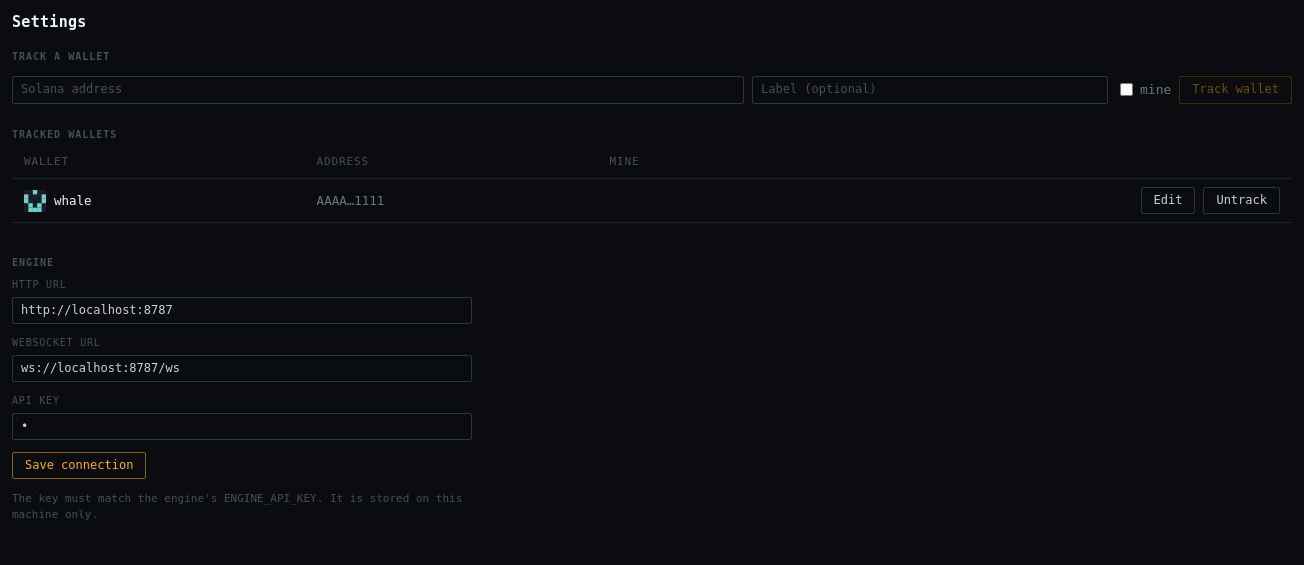
Scenario: SettingsTab › discards an edit that was cancelled
This screenshot has width=1304, height=565.
Step 1. Click the button named "Edit whale" → (1168, 201), box [1140,187,1195,214]
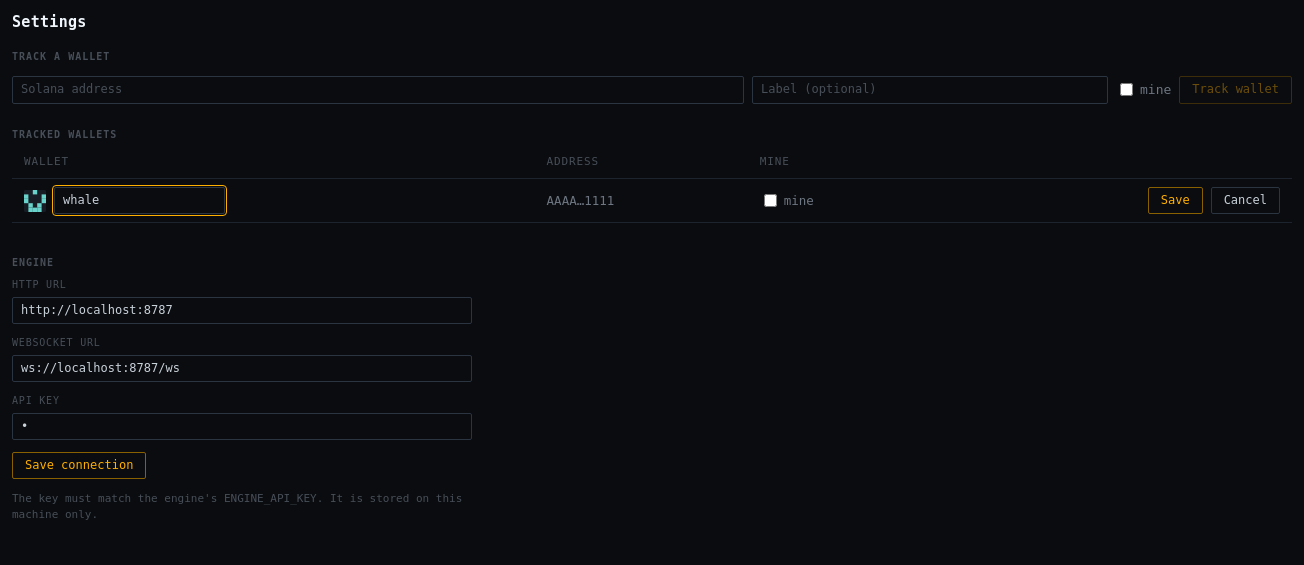
Step 2. Replace the text in the field named "Label for AAAA…1111" with "nope" → (140, 201), box [54,187,225,214]
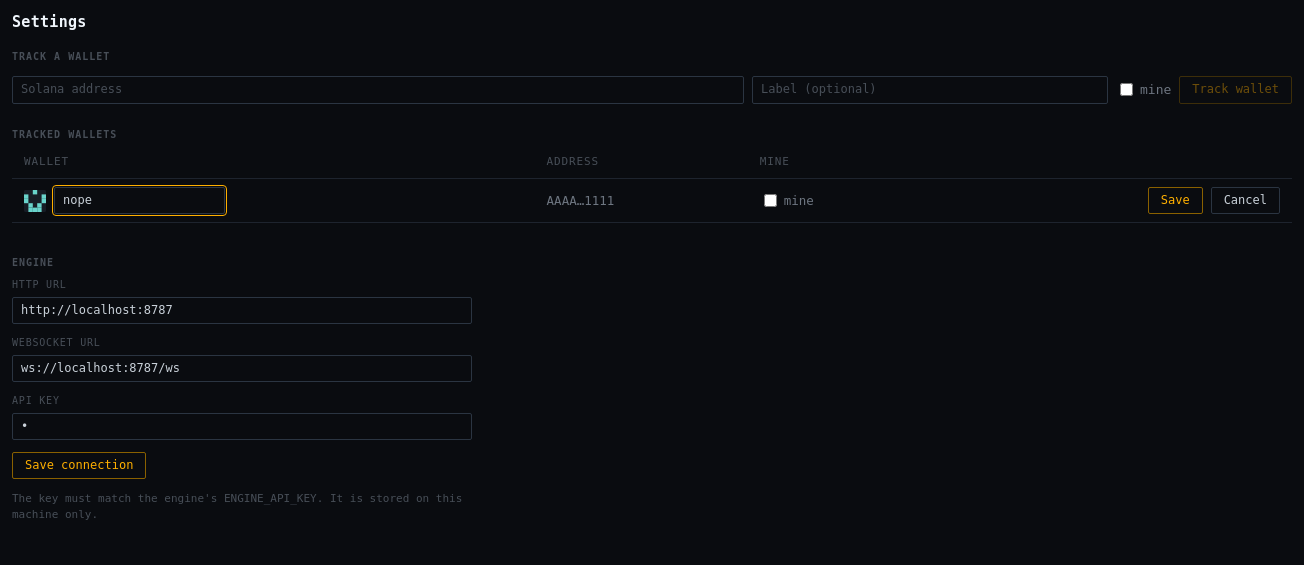
Step 3. Click the button "Cancel" → (1245, 201), box [1211,187,1280,214]
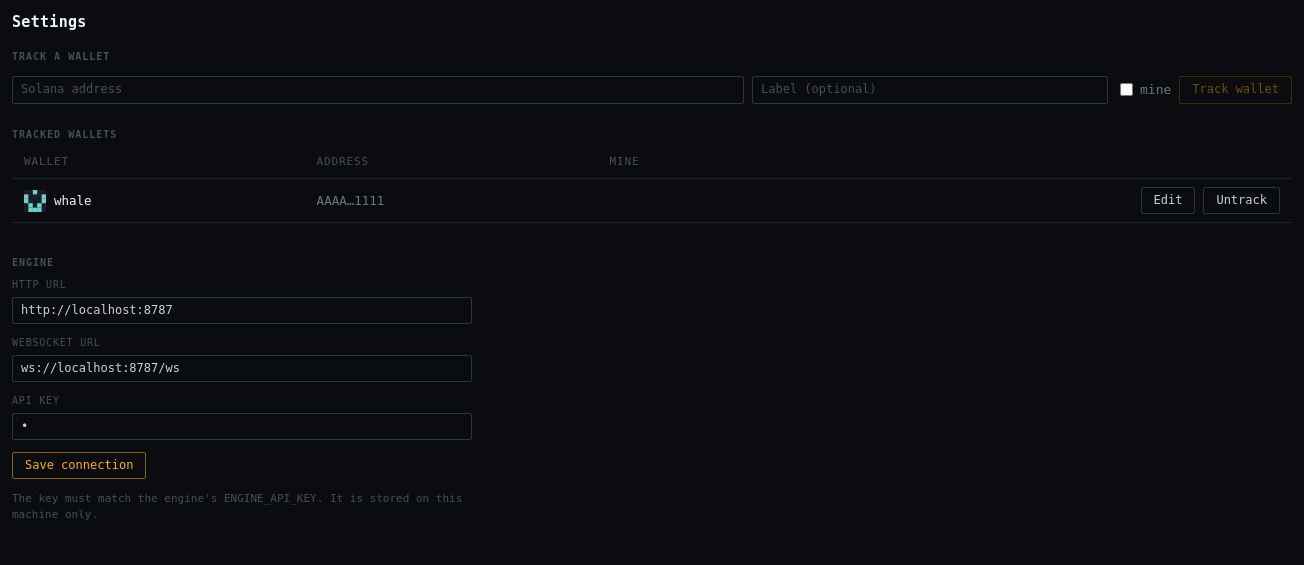
Note: Reopening starts from the stored value, not from what was abandoned.
Step 4. Click the button named "Edit whale" → (1168, 201), box [1140,187,1195,214]
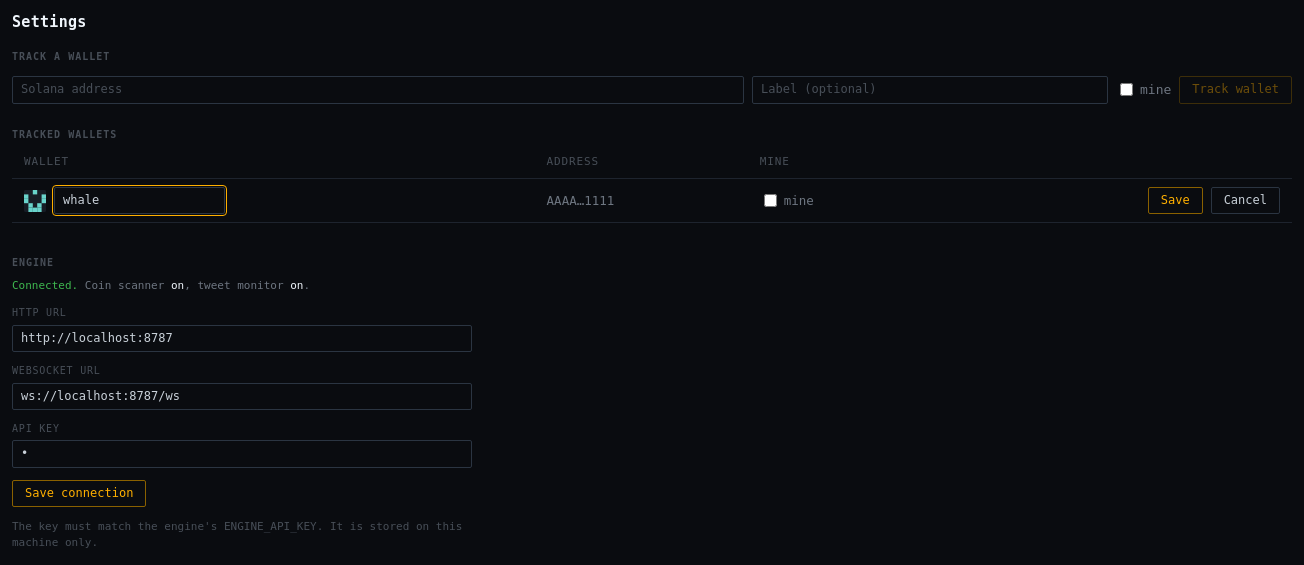
Expected: the field named "Label for AAAA…1111" holds "whale", [54,187,225,214]
